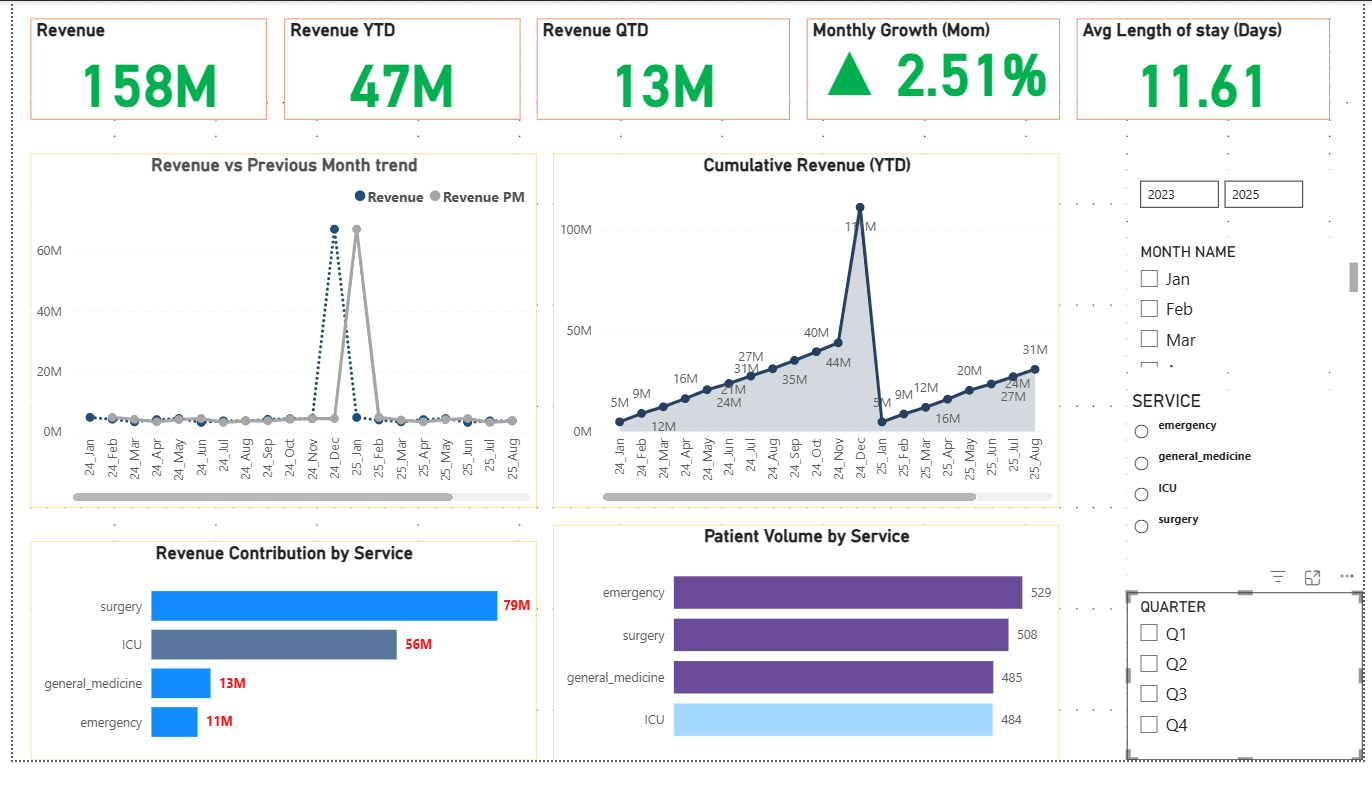

This screenshot's page, from the dashboard's own definition file:
{"tool":"powerbi","page":{"name":"Hospital Bed Management ","canvas":[1280,720],"ordinal":0},"visuals":[{"type":"card","title":"Monthly Growth (Mom)","fields":{"Values":["Date Table.Mom Display"]},"box":[752,16,240,96],"z":0,"group":"g1"},{"type":"lineChart","title":"Revenue vs Previous Month trend","fields":{"Category":["Date Table.Year-Month"],"Y":["Patients.Revenue","Date Table.Revenue PM"]},"box":[16,144,480,336],"z":0},{"type":"card","title":"Revenue YTD","fields":{"Values":["Date Table.Revenue YTD"]},"box":[256,16,224,96],"z":1000,"group":"g1"},{"type":"lineChart","title":"Cumulative Revenue (YTD)","fields":{"Y":["Date Table.Revenue YTD"],"Category":["Date Table.Year-Month"]},"box":[512,144,480,336],"z":1000},{"type":"card","title":"Revenue QTD","fields":{"Values":["Date Table.Revenue QTD"]},"box":[496,16,240,96],"z":2000,"group":"g1"},{"type":"clusteredBarChart","title":"Revenue Contribution by Service","fields":{"Category":["Patients.SERVICE"],"Y":["Patients.Revenue"]},"box":[16,512,480,208],"z":2000},{"type":"card","title":"Revenue","fields":{"Values":["Patients.Revenue"]},"box":[16,16,224,96],"z":3000,"group":"g1"},{"type":"clusteredBarChart","title":"Patient Volume by Service","fields":{"Category":["Patients.SERVICE"],"Y":["Date Table.Patients count"]},"box":[512,496,480,224],"z":3000},{"type":"slicer","fields":{"Values":["Date Table.YEAR"]},"box":[1056,160,224,48],"z":4000},{"type":"slicer","fields":{"Values":["Date Table.MONTH NAME"]},"box":[1056,224,224,128],"z":5000},{"type":"listSlicer","fields":{"Values":["Patients.SERVICE"]},"box":[1056,368,224,272],"z":6000},{"type":"card","title":"Avg Length of stay (Days)","fields":{"Values":["Avg(Patients.LENGTH OF STAY)"]},"box":[1008,16,240,96],"z":8000,"group":"g1"},{"type":"group","id":"g1","title":"Group 1","box":[16,16,1232,96],"z":8001},{"type":"slicer","fields":{"Values":["Date Table.QUARTER"]},"box":[1056,560,224,160],"z":8002}]}

Visuals, with their boxes on the page's 1280x720 design canvas (x1, y1, x2, y2). These are canvas units, not pixel positions in the 1372x806 screenshot, which may show the page scaled, cropped or inside an application window:
"Monthly Growth (Mom)" card: {"left": 752, "top": 16, "right": 992, "bottom": 112}
"Revenue vs Previous Month trend" lineChart: {"left": 16, "top": 144, "right": 496, "bottom": 480}
"Revenue YTD" card: {"left": 256, "top": 16, "right": 480, "bottom": 112}
"Cumulative Revenue (YTD)" lineChart: {"left": 512, "top": 144, "right": 992, "bottom": 480}
"Revenue QTD" card: {"left": 496, "top": 16, "right": 736, "bottom": 112}
"Revenue Contribution by Service" clusteredBarChart: {"left": 16, "top": 512, "right": 496, "bottom": 720}
"Revenue" card: {"left": 16, "top": 16, "right": 240, "bottom": 112}
"Patient Volume by Service" clusteredBarChart: {"left": 512, "top": 496, "right": 992, "bottom": 720}
slicer - Date Table.YEAR: {"left": 1056, "top": 160, "right": 1280, "bottom": 208}
slicer - Date Table.MONTH NAME: {"left": 1056, "top": 224, "right": 1280, "bottom": 352}
listSlicer - Patients.SERVICE: {"left": 1056, "top": 368, "right": 1280, "bottom": 640}
"Avg Length of stay (Days)" card: {"left": 1008, "top": 16, "right": 1248, "bottom": 112}
"Group 1" group: {"left": 16, "top": 16, "right": 1248, "bottom": 112}
slicer - Date Table.QUARTER: {"left": 1056, "top": 560, "right": 1280, "bottom": 720}
